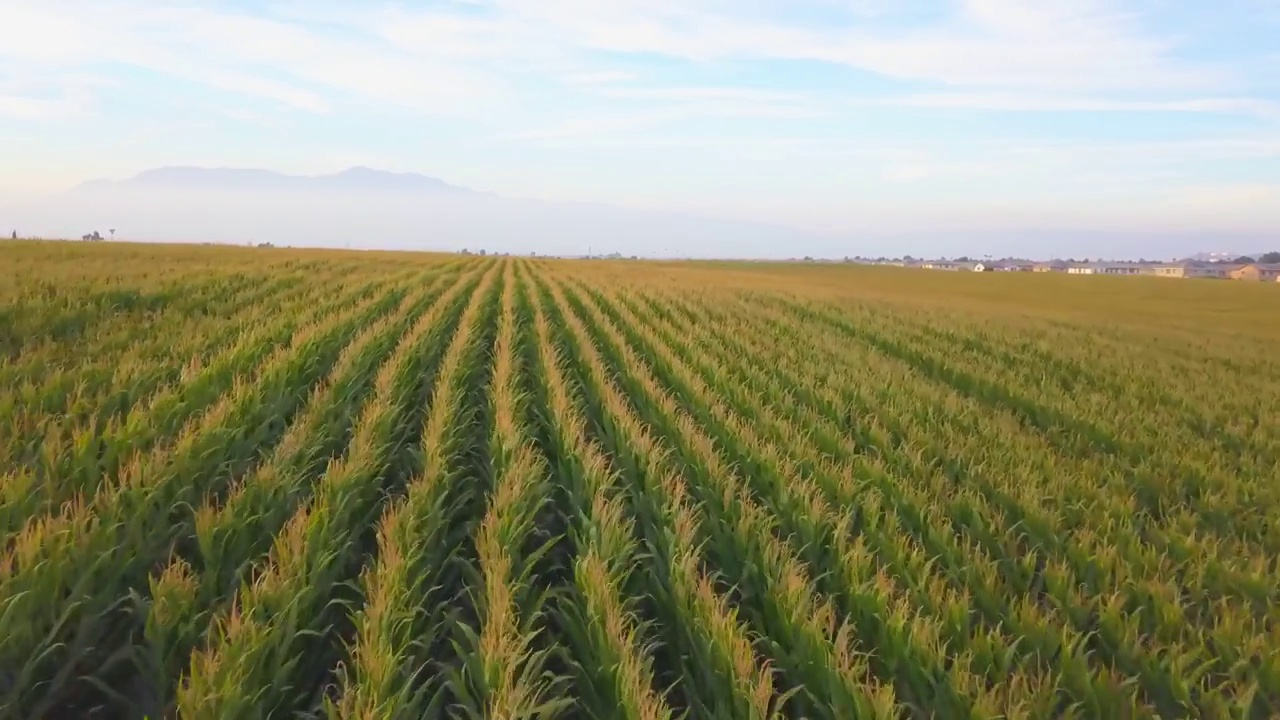Wheat: (271, 307, 1108, 597)
